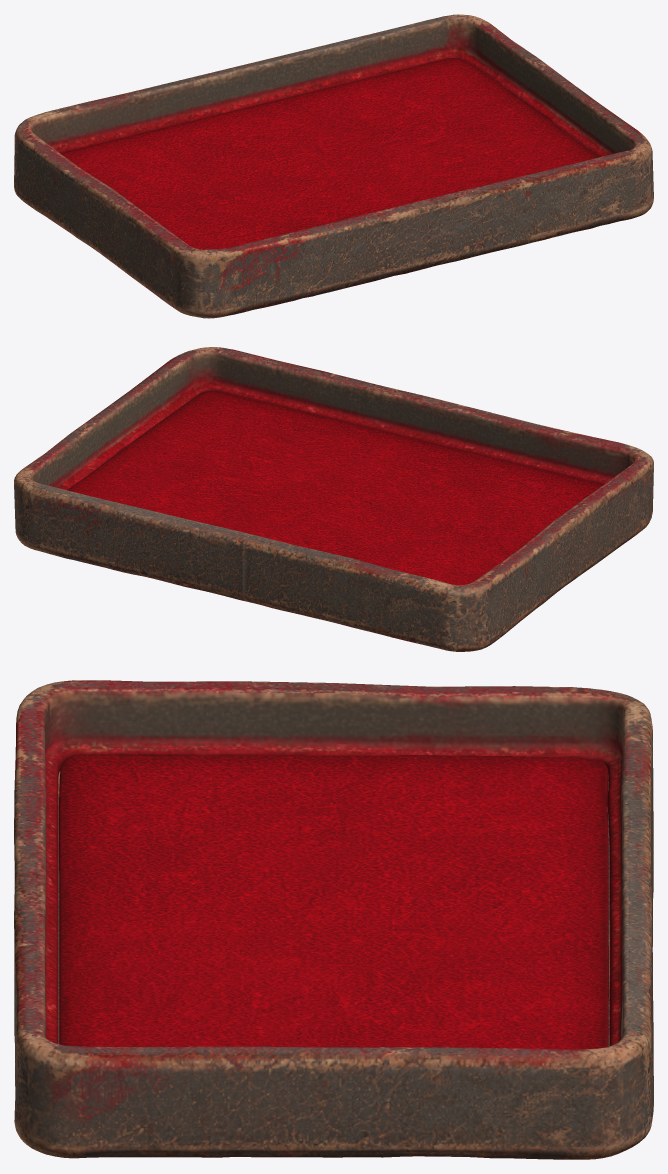
Rendered from Red_stamp_tray.fbx.
3 renders of one model, top to bottom at view 1: azimuth 30°, elevation 25°; view 2: azimuth 150°, elevation 25°; view 3: azimuth 270°, elevation 25°, orthographic. The views are drawn at different scales.
Visible parts, largest first — view 1: tripo_453373f3_43c5_431c_b1e5_55ec55059288; view 2: tripo_453373f3_43c5_431c_b1e5_55ec55059288; view 3: tripo_453373f3_43c5_431c_b1e5_55ec55059288.
Part boxes in pixels (bbox=[...]): tripo_453373f3_43c5_431c_b1e5_55ec55059288: bbox=[14, 14, 653, 318]; tripo_453373f3_43c5_431c_b1e5_55ec55059288: bbox=[14, 347, 653, 651]; tripo_453373f3_43c5_431c_b1e5_55ec55059288: bbox=[14, 680, 653, 1159].
Size of the model in its own units: 0.9995 by 0.1411 by 0.7163.
1 material, 1 textured.
